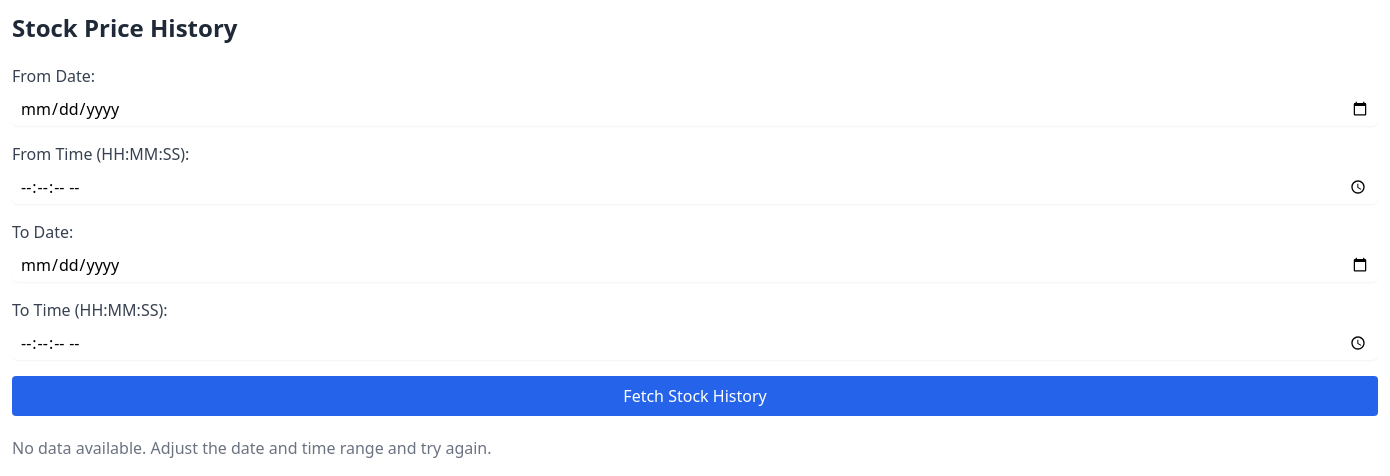
Test: StockPriceHistory › displays an error message when the from timestamp is later than the to timestamp
The width and height of the screenshot is (1390, 476).
# Fill in the date/time inputs with invalid range
Type "2025-01-02" into the date field labelled "From Date:".
click(695, 109); type("2025-01-02")  # box [12,92,1378,126]
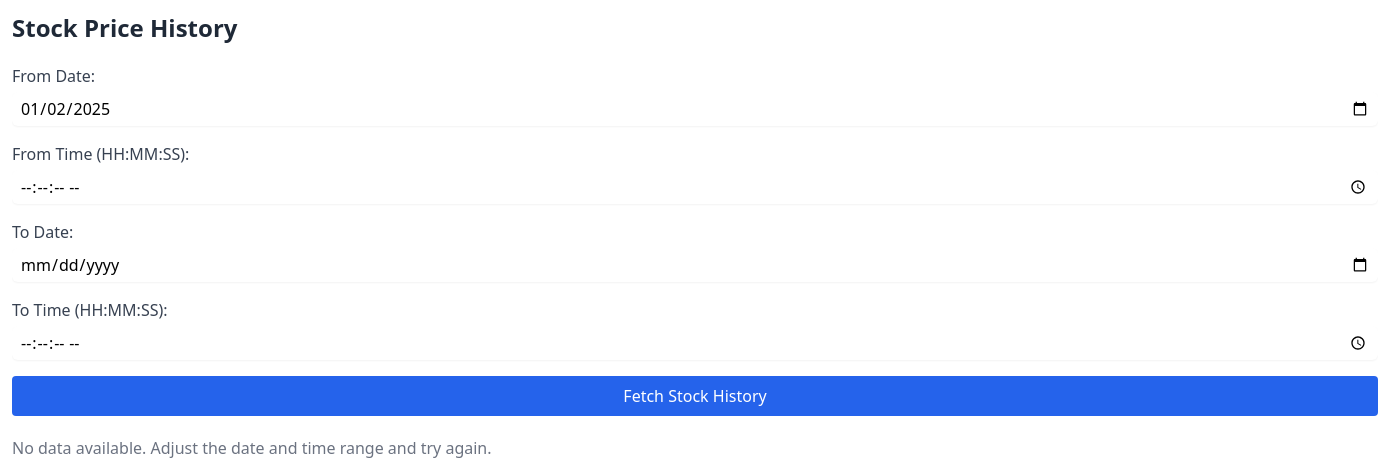
Type "12:00:00" into the time field labelled "From Time (HH:MM:SS):".
click(695, 187); type("12:00:00")  # box [12,170,1378,204]
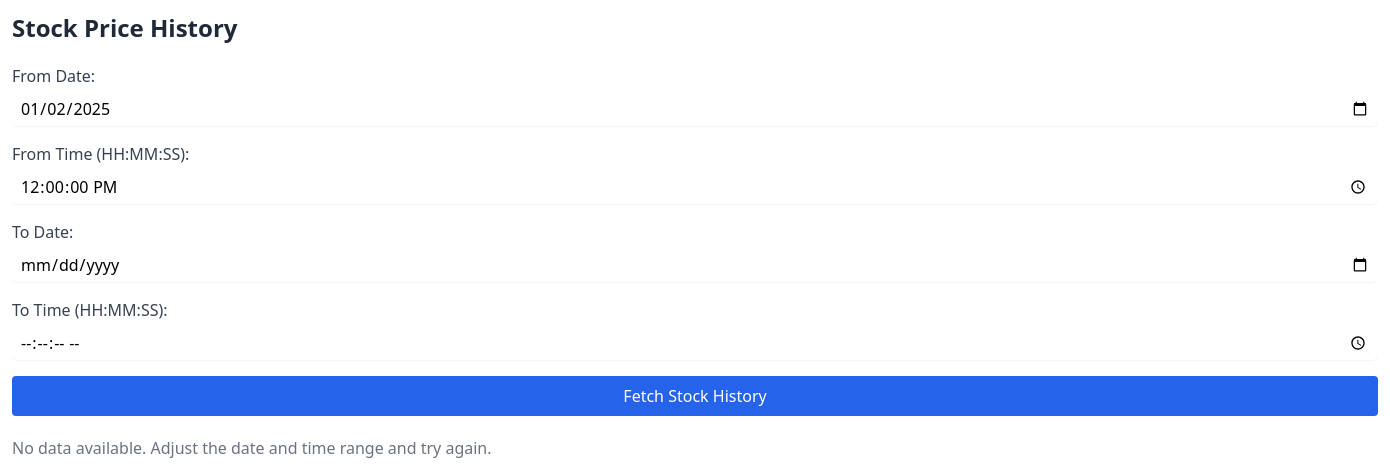
Type "2025-01-01" into the date field labelled "To Date:".
click(695, 265); type("2025-01-01")  # box [12,248,1378,282]
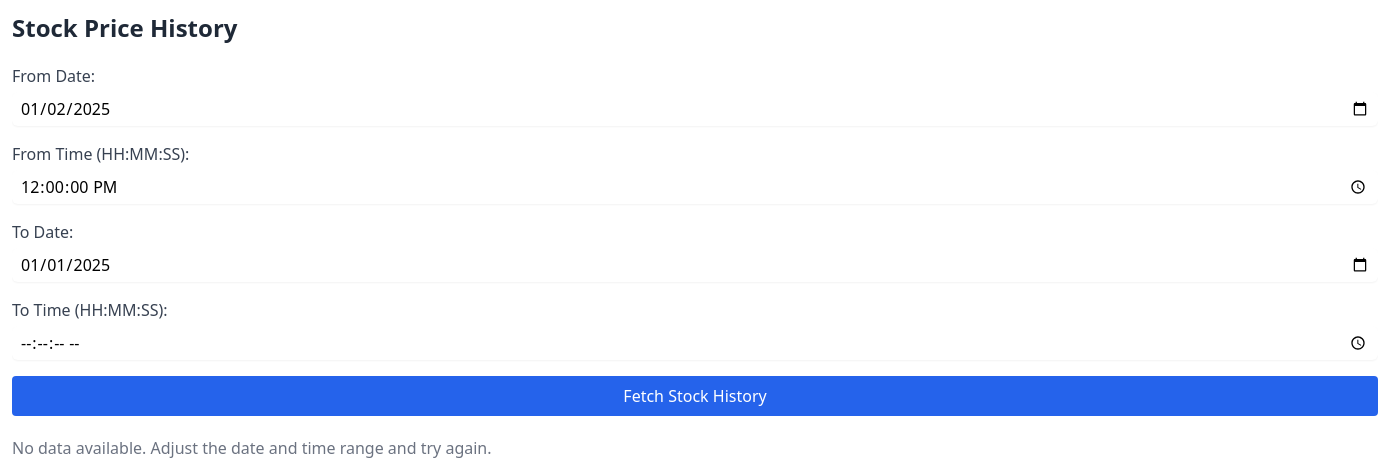
Type "12:00:00" into the time field labelled "To Time (HH:MM:SS):".
click(695, 343); type("12:00:00")  # box [12,326,1378,360]
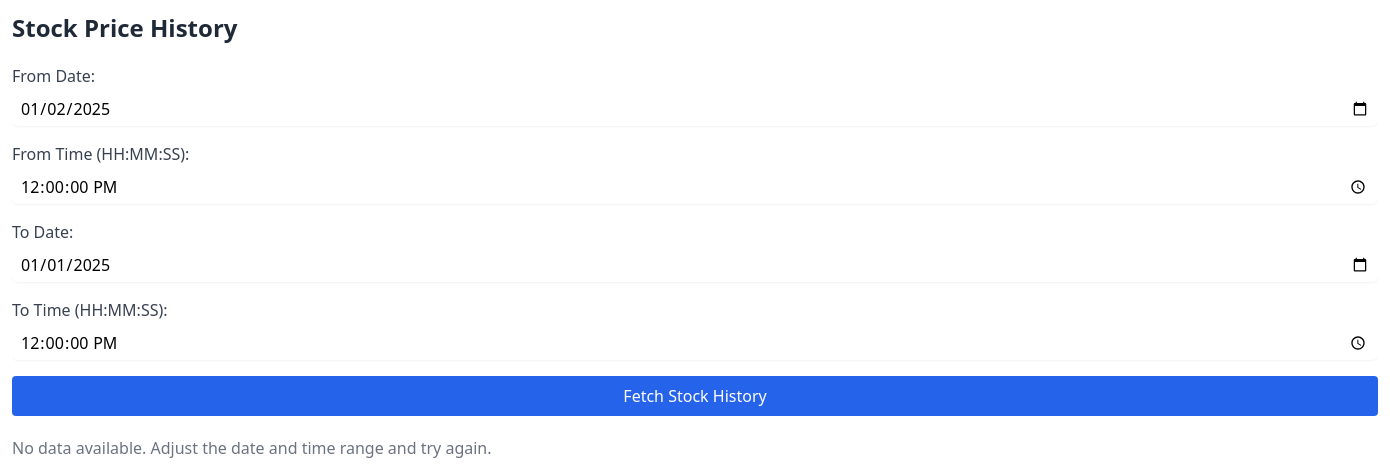
# Simulate button click to fetch stock history
Click the button "Fetch Stock History".
click(695, 396)  # box [12,376,1378,416]
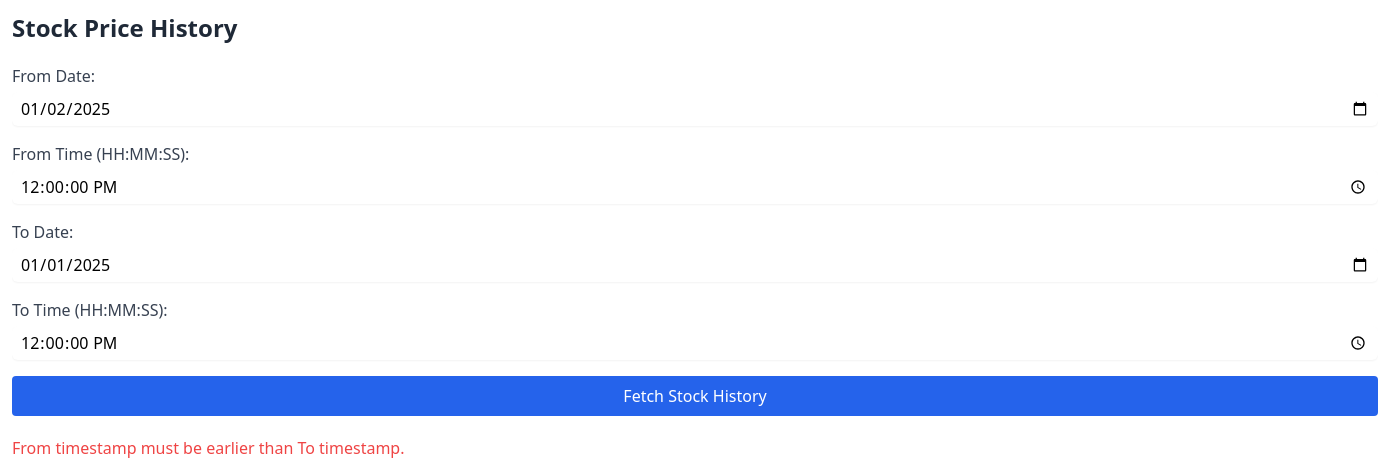
Result: the text "From timestamp must be earlier than To timestamp." is shown at [12,437,404,459]
